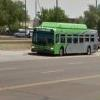Bus: (29, 14, 99, 58)
